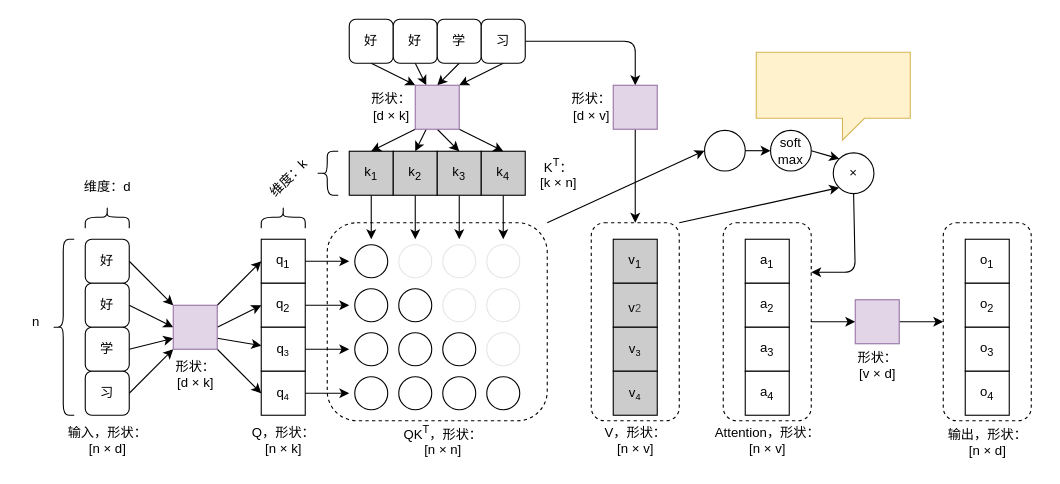
The diagram is 1060 pixels wide and 484 high, and some of its shapes have lost their labels. The shapes that lost their labels are listed below. From the top down, each one's centre as x and y in pixels, then its label:
At (436,106): "W K".
At (634,106): "W V".
At (832,95): "Attention Is All You Need 论文公式（1）".
At (724,150): "scale".
At (194,326): "W Q".
At (876,321): "W O".
